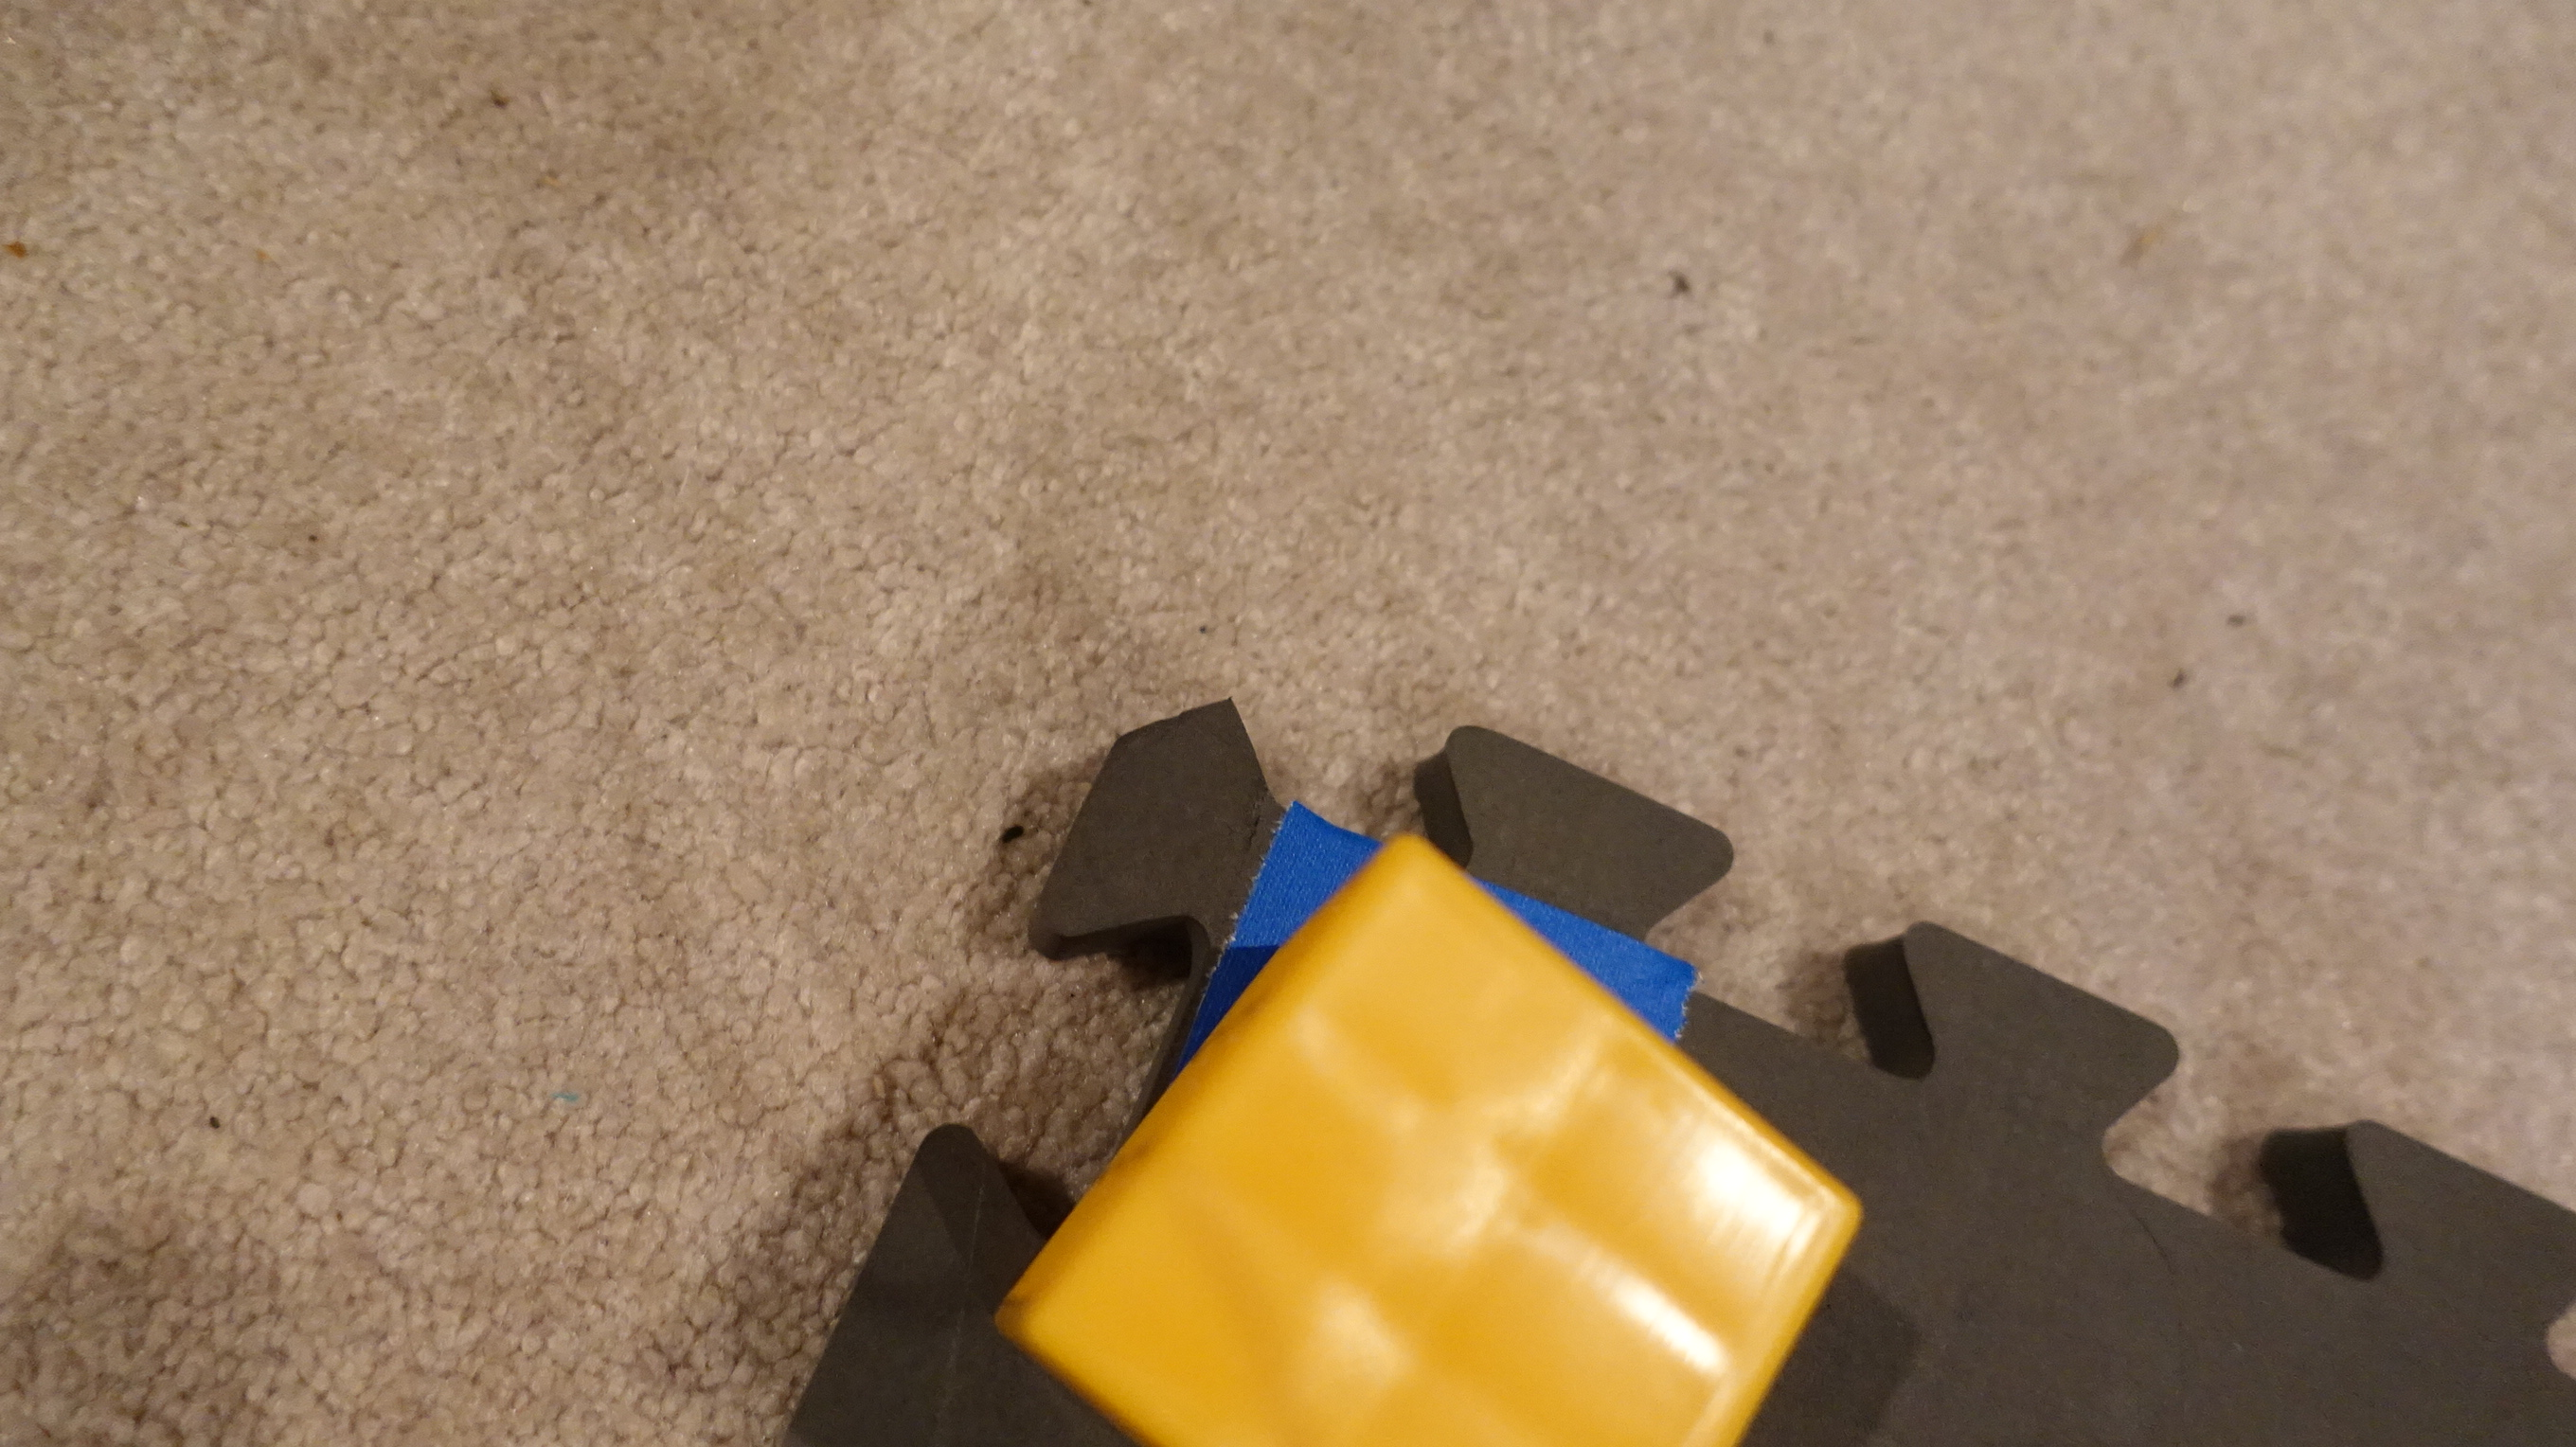gold: (985, 819, 1875, 1447)
